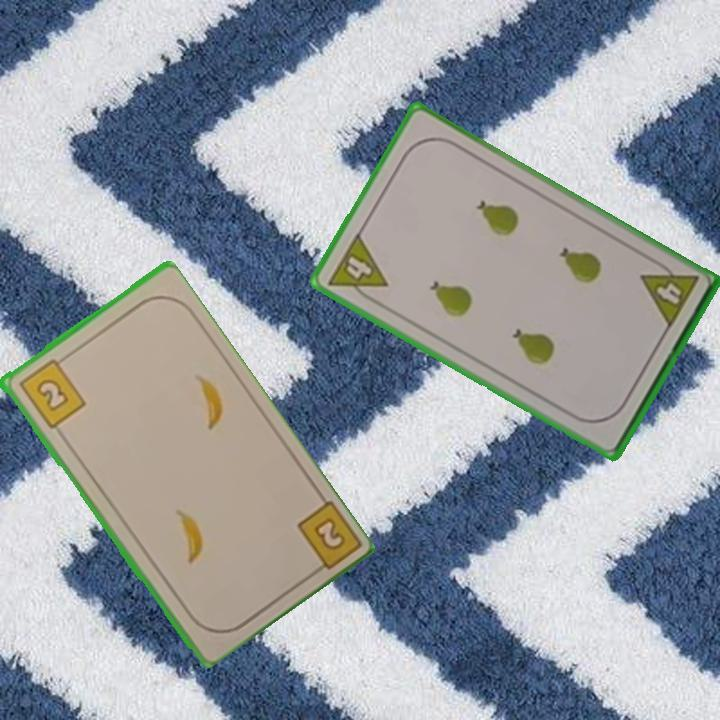2b: (14, 352, 88, 432), (292, 495, 361, 580)
4p: (323, 229, 391, 308), (637, 255, 701, 332)
